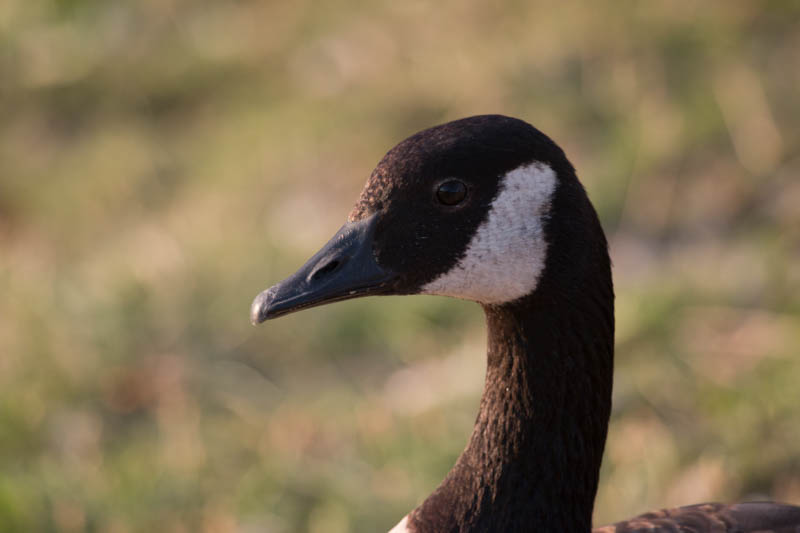goose-head: (248, 113, 597, 327)
